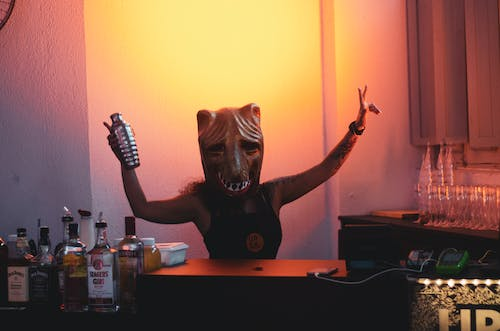alcohol: (53, 222, 87, 313), (86, 218, 117, 313), (117, 215, 145, 310), (28, 225, 57, 313), (5, 227, 34, 313), (108, 111, 141, 170)
